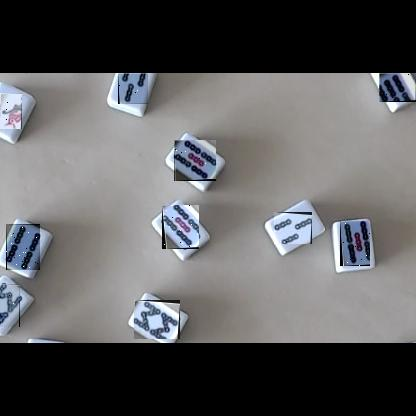1s: (0, 93, 22, 129)
3s: (274, 212, 312, 244), (118, 73, 148, 104)
4s: (6, 224, 40, 270)
5s: (174, 140, 216, 181), (162, 205, 199, 249), (340, 221, 370, 266)
6s: (379, 73, 416, 102)
8s: (134, 300, 180, 339), (0, 284, 20, 327)
